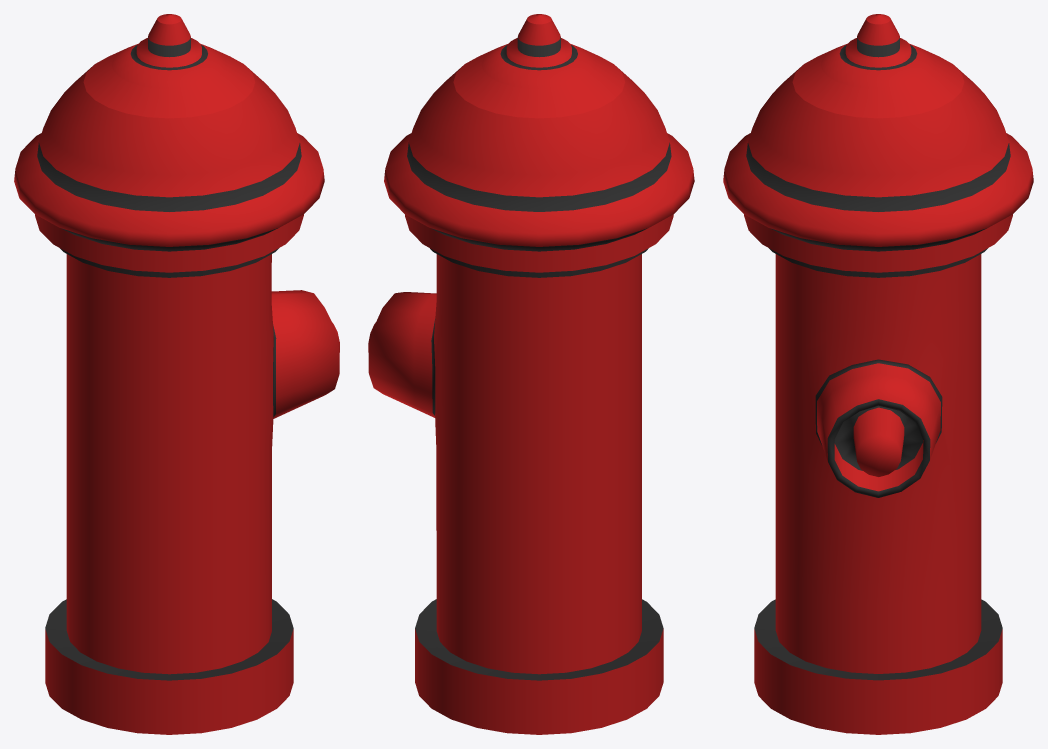
Rendered from FireHydrant_M_v1_Carrie.FBX.
3 renders of one model, left to right at view 1: azimuth 30°, elevation 25°; view 2: azimuth 150°, elevation 25°; view 3: azimuth 270°, elevation 25°, orthographic.
Visible parts, largest first — view 1: FireHydrant; view 2: FireHydrant; view 3: FireHydrant.
Part boxes in pixels (left/top/right/bottom): FireHydrant: left=14, top=14, right=339, bottom=734; FireHydrant: left=368, top=14, right=694, bottom=734; FireHydrant: left=723, top=14, right=1033, bottom=734.
Size of the model in its own units: 134 by 291 by 123.
